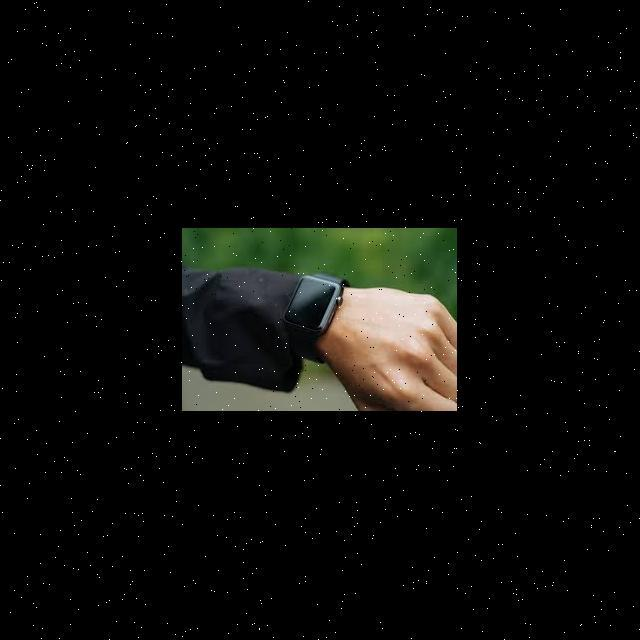watch: (288, 255, 355, 360)
